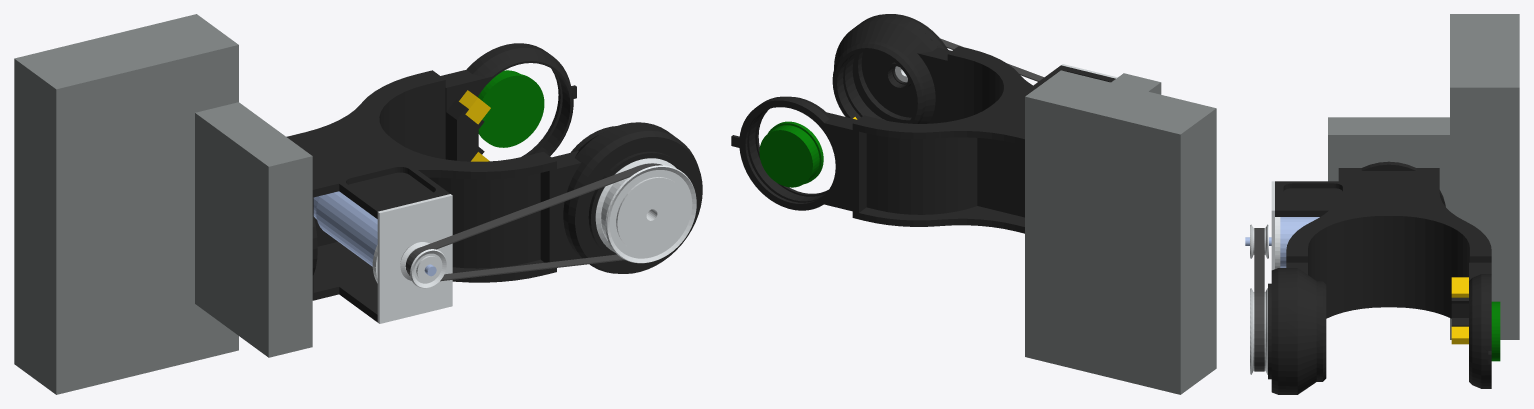
The model's file is BODY_mesh.dae.
The picture shows the model from 3 angles, left to right: view 1: azimuth 30°, elevation 25°; view 2: azimuth 150°, elevation 25°; view 3: azimuth 270°, elevation 25°; orthographic projection. The views are drawn at different scales.
Visible parts, largest first — view 1: BODY (×12); view 2: BODY (×6); view 3: BODY (×15).
Part boxes in pixels (box(x1,y1,x2,y2)): BODY (×12): box(14, 14, 702, 394); BODY (×6): box(731, 14, 1216, 394); BODY (×15): box(1245, 14, 1519, 394).
Bounding box in the file's own units: 0.298 × 0.16 × 0.1575.
